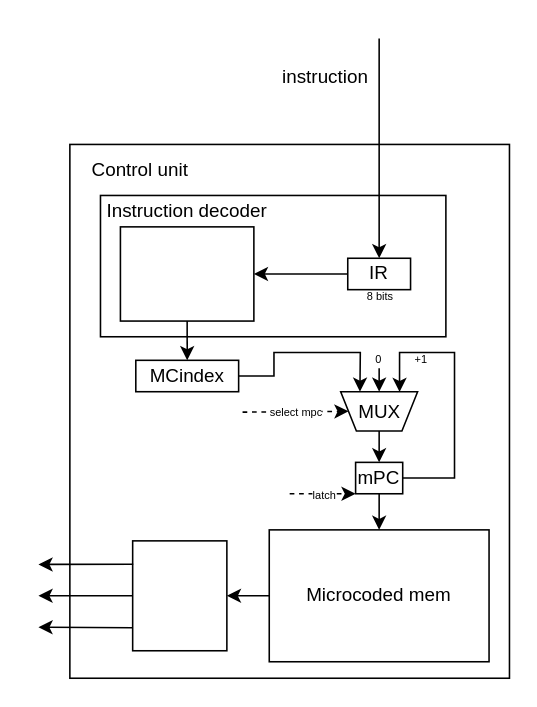
This 537x707 diagram has some shape labels left out. The shapes that lost their labels are listed below. From the top down, each one's centre as x and y in pixels, then its label:
the point at 186,273: OP-TABLE
the point at 179,595: signals dispatcher
